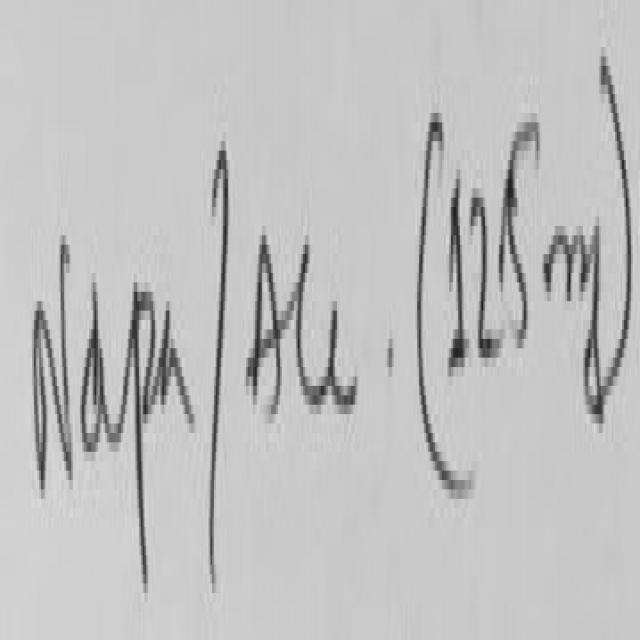1: (449, 179, 467, 362)
2: (472, 188, 499, 353)
5: (501, 113, 539, 344)
A: (246, 235, 282, 409)
N: (34, 245, 71, 485)
a: (156, 279, 196, 428), (80, 324, 122, 455)
c: (295, 237, 330, 410)
e: (330, 311, 358, 409)
g: (583, 208, 602, 425)
m: (538, 198, 588, 303)
p: (130, 279, 155, 584)
